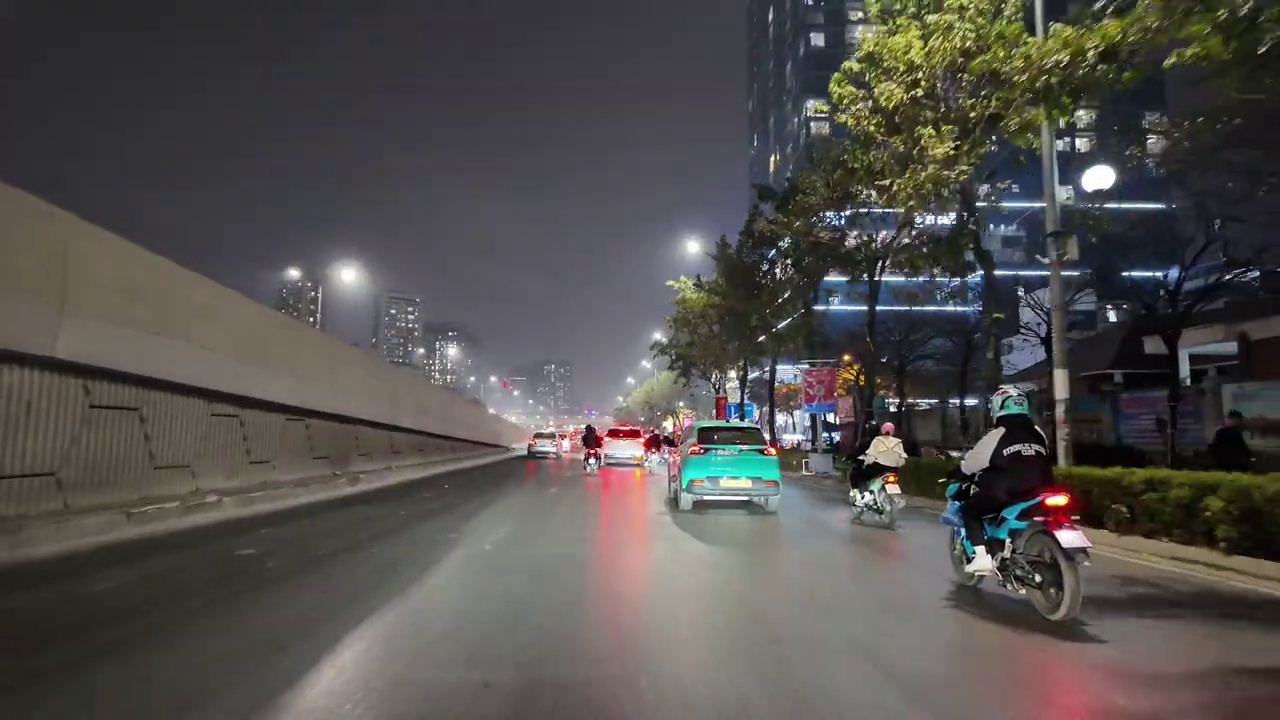acesa: (332, 261, 367, 292), (678, 234, 706, 260), (281, 264, 305, 285)
